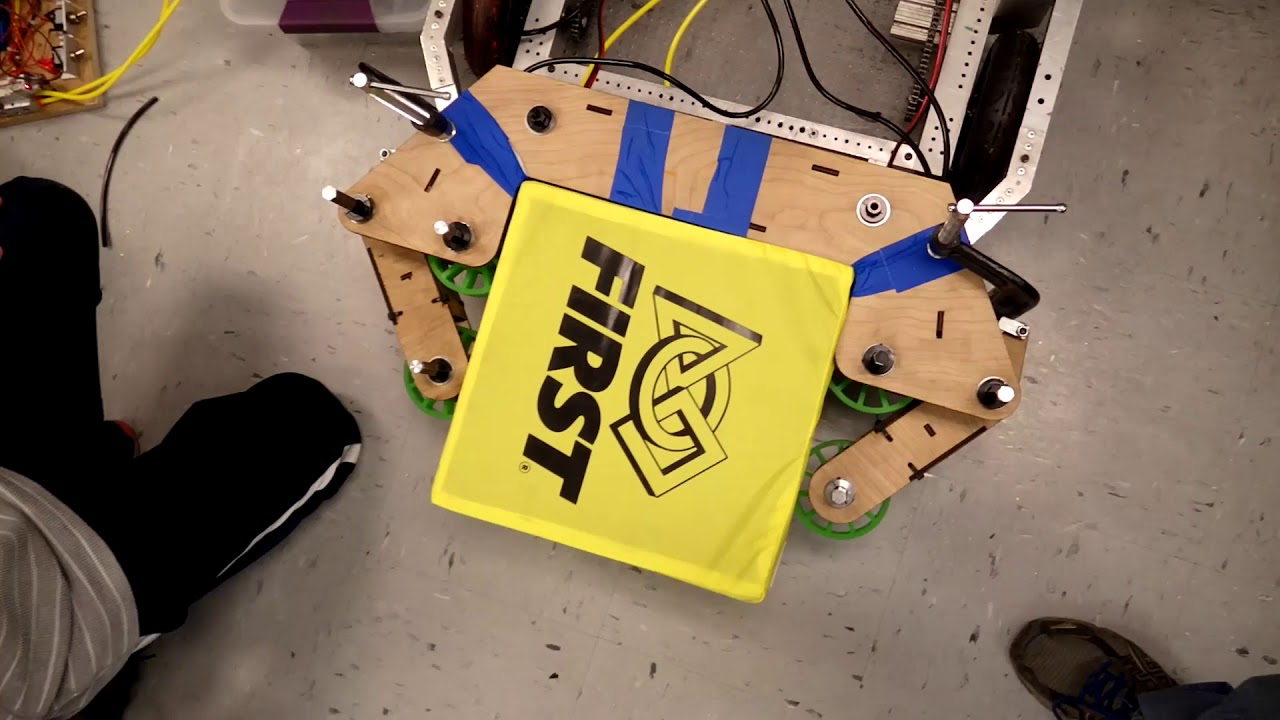cube: (432, 179, 853, 604)
